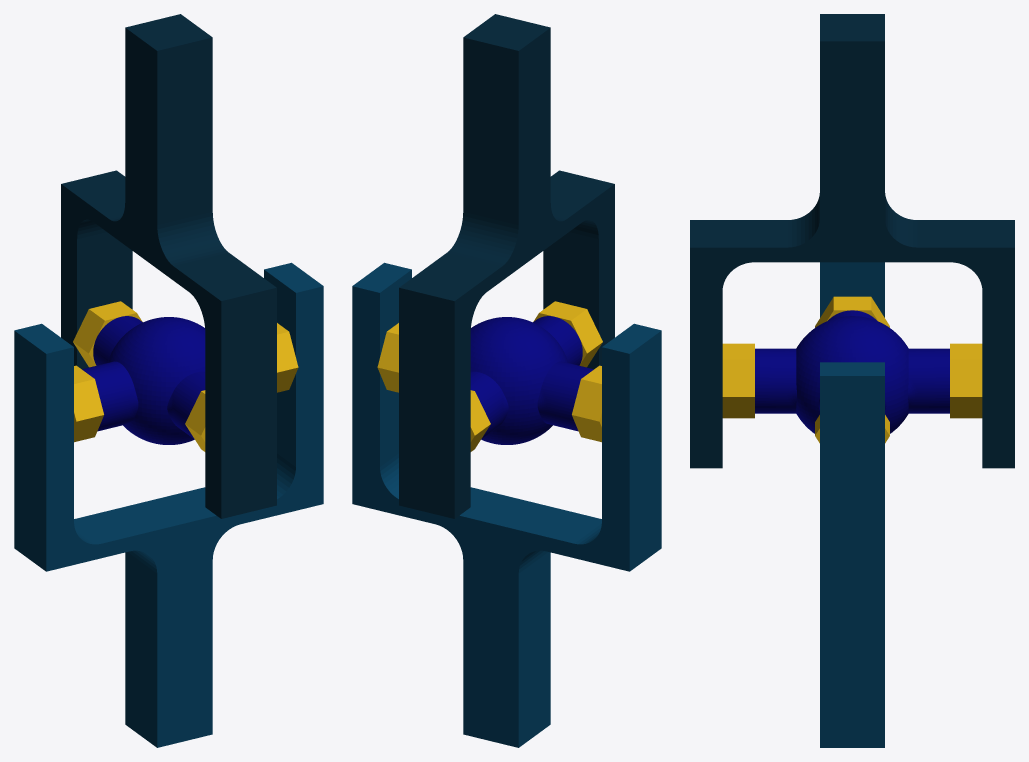
File: assy4.glb
3 views of the same model, side by side, from view 1: azimuth 30°, elevation 25°; view 2: azimuth 150°, elevation 25°; view 3: azimuth 270°, elevation 25° (orthographic).
Parts seen in each view (by area): view 1: part7, part6, part1, part4, part3, part2, part5; view 2: part7, part6, part1, part4, part5, part2, part3; view 3: part7, part6, part1, part3, part5, part4.
Part boxes in pixels (left/top/right/bottom): part7: left=61, top=14, right=276, bottom=518; part6: left=14, top=262, right=323, bottom=747; part1: left=82, top=316, right=205, bottom=444; part4: left=74, top=365, right=103, bottom=442; part3: left=73, top=301, right=142, bottom=367; part2: left=277, top=323, right=298, bottom=392; part5: left=185, top=390, right=205, bottom=451; part7: left=399, top=14, right=614, bottom=518; part6: left=352, top=262, right=661, bottom=747; part1: left=470, top=316, right=593, bottom=444; part4: left=572, top=365, right=601, bottom=442; part5: left=533, top=301, right=602, bottom=367; part2: left=377, top=323, right=398, bottom=392; part3: left=470, top=390, right=490, bottom=451; part7: left=690, top=14, right=1014, bottom=468; part6: left=820, top=262, right=884, bottom=747; part1: left=755, top=310, right=949, bottom=433; part3: left=950, top=343, right=982, bottom=418; part5: left=722, top=343, right=754, bottom=418; part4: left=815, top=296, right=889, bottom=327.
Bounding box in the file's own units: 0.005 × 0.012 × 0.005.
